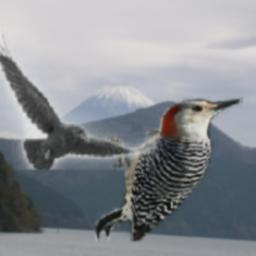Crow: (0, 28, 160, 171)
Woodpecker: (95, 98, 243, 242)
